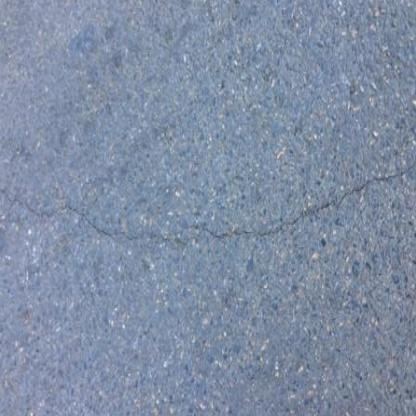Cracks: (0, 150, 416, 248)
